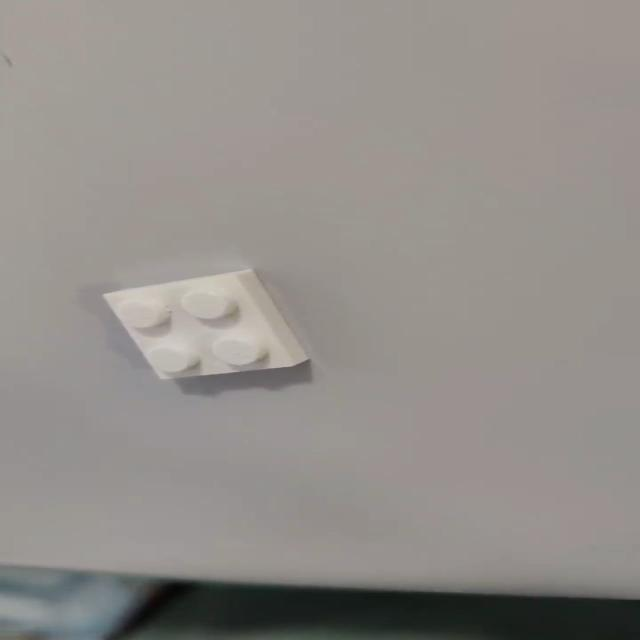C2x2x0: (100, 268, 316, 383)
